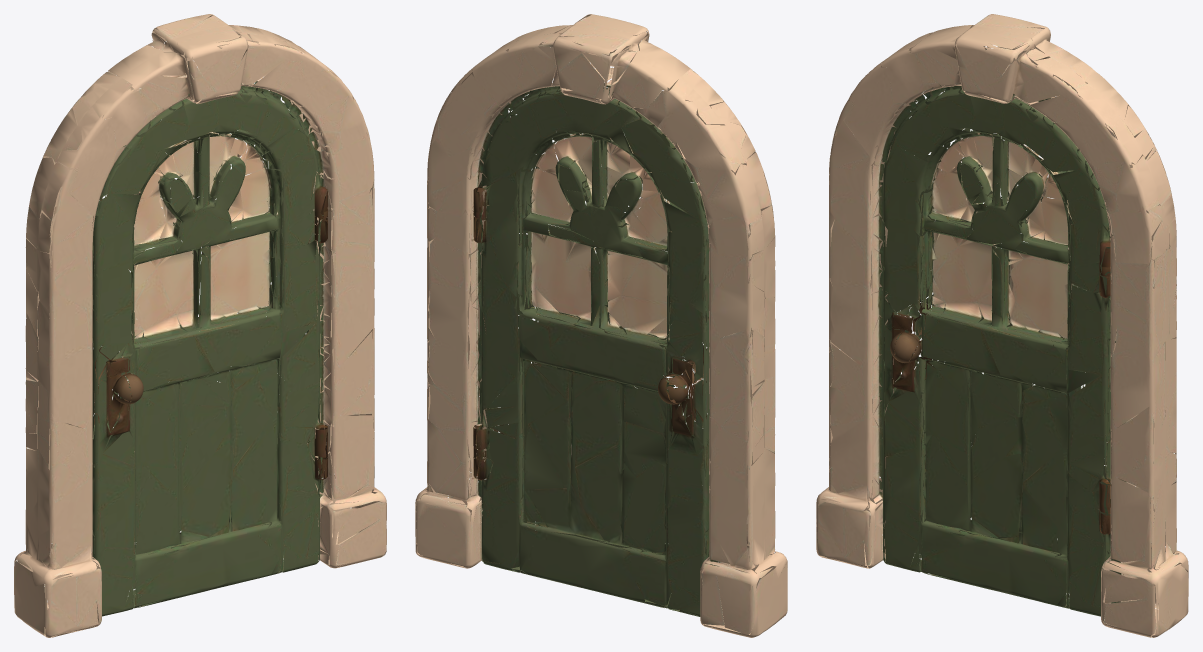
Rendered from cafe-door.glb.
3 views of the same model, side by side, from view 1: azimuth 30°, elevation 25°; view 2: azimuth 150°, elevation 25°; view 3: azimuth 330°, elevation 25° (orthographic).
Size of the model in its own units: 1.23 by 1.9 by 0.2486.
1 material, 1 textured.
